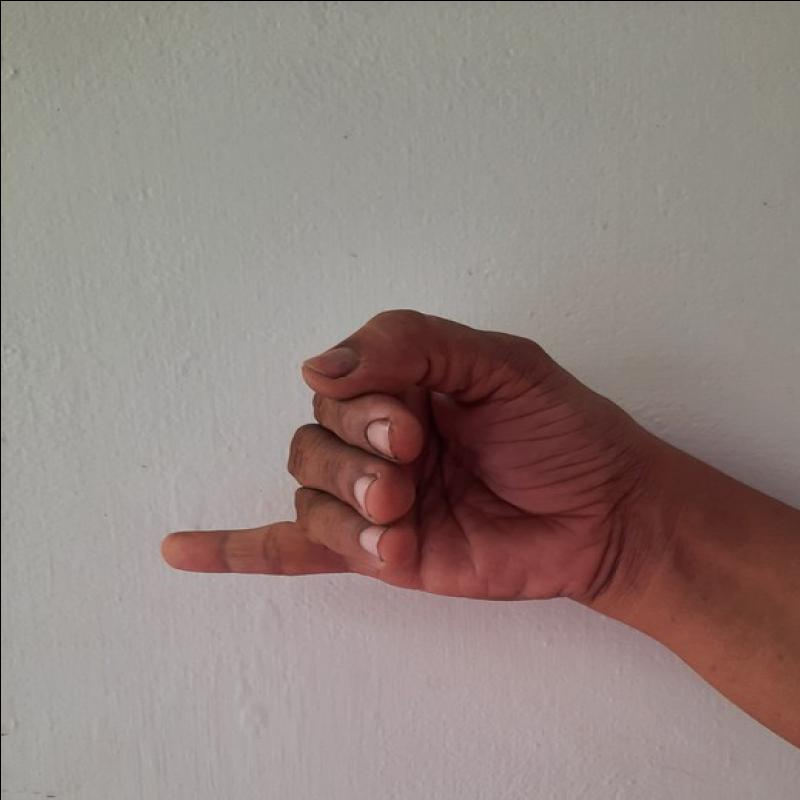Kartharee Mukham: (148, 297, 641, 616)
